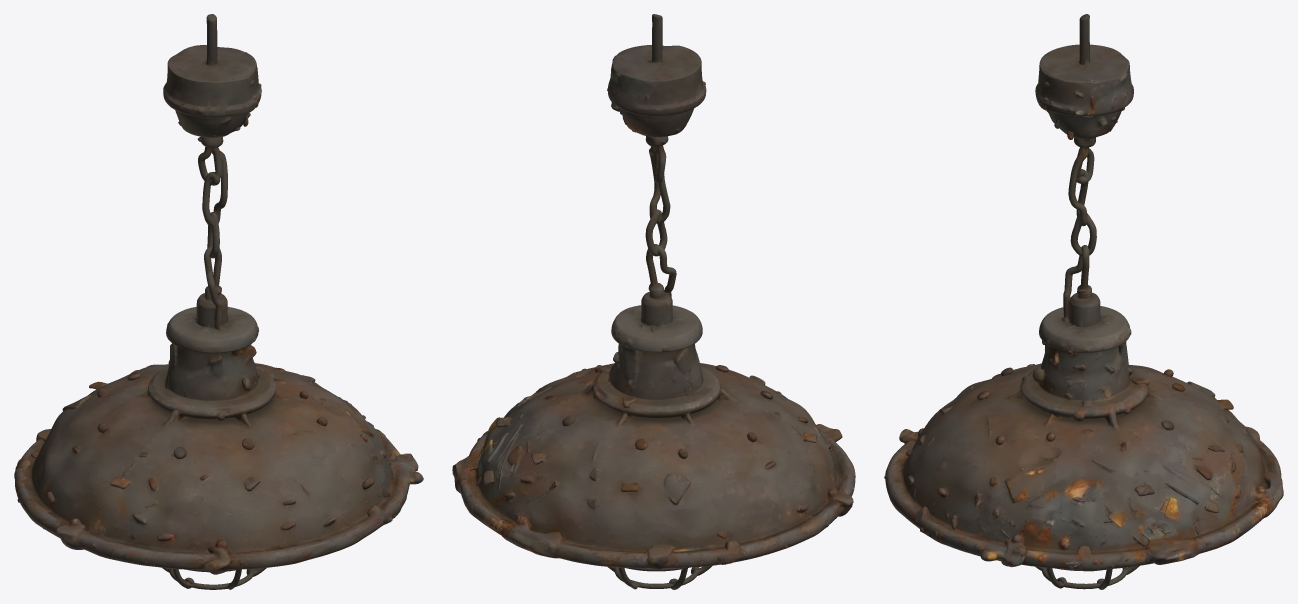
The model's file is lamp_ceiling.glb.
The picture shows the model from 3 angles, left to right: view 1: azimuth 30°, elevation 25°; view 2: azimuth 150°, elevation 25°; view 3: azimuth 270°, elevation 25°; orthographic projection.
Visible parts, largest first — view 1: tripo_node_18b902b8-3eba-43df-adff-1347965b3706; view 2: tripo_node_18b902b8-3eba-43df-adff-1347965b3706; view 3: tripo_node_18b902b8-3eba-43df-adff-1347965b3706.
Boxes of the visible parts, left/top/right/bottom form: tripo_node_18b902b8-3eba-43df-adff-1347965b3706: left=14, top=14, right=423, bottom=589; tripo_node_18b902b8-3eba-43df-adff-1347965b3706: left=452, top=14, right=855, bottom=589; tripo_node_18b902b8-3eba-43df-adff-1347965b3706: left=884, top=14, right=1283, bottom=589.
Size of the model in its own units: 0.6392 by 0.9814 by 0.635.
Materials: 1 (1 with a texture image).
